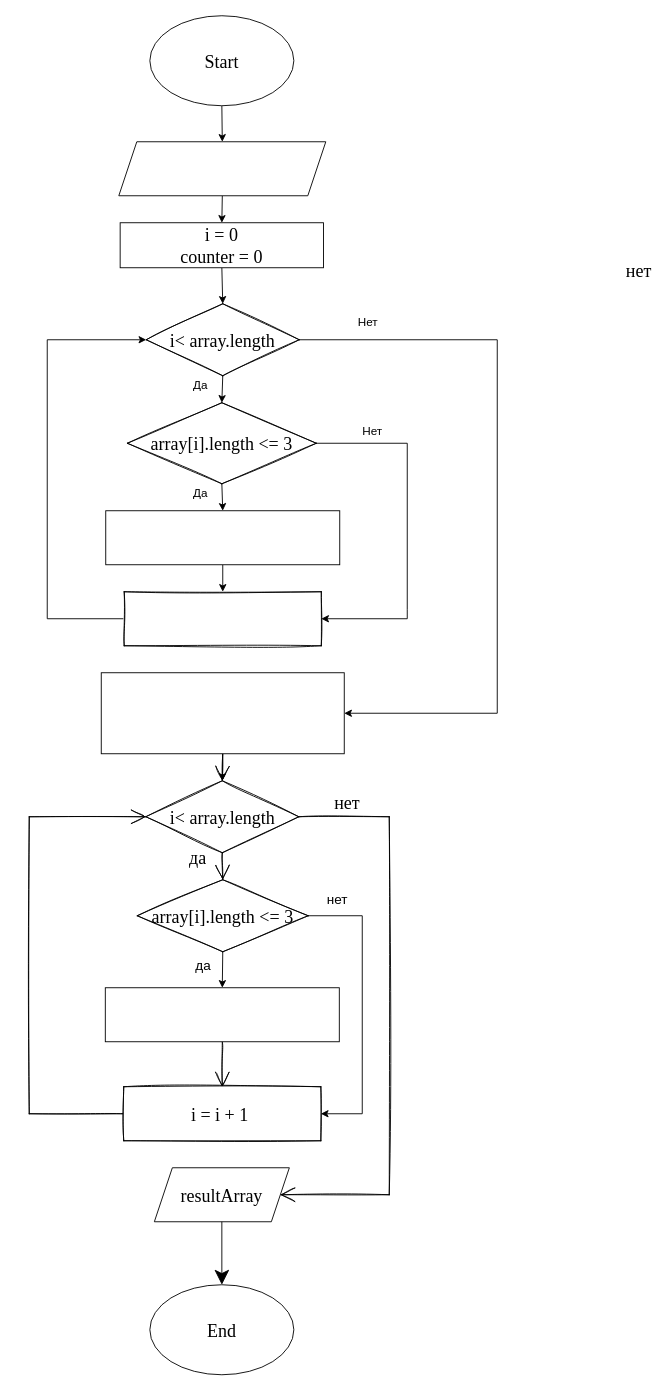
This 667x1391 diagram has some shape labels left out. Each missing label, with the box of its shape:
counter = counter + 1: (105, 510, 340, 565)
create resultArray = [counter] j = 0 i = 0: (100, 672, 344, 754)
i= i + 1: (123, 591, 321, 646)
resultArray[j] = array[i] j = j + 1: (104, 987, 339, 1042)
string array: (118, 141, 326, 196)
